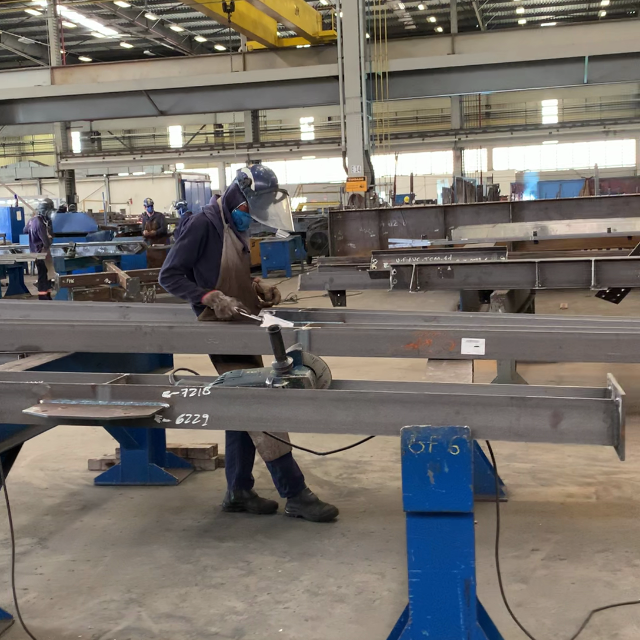face-shield: (243, 186, 295, 234)
glove: (196, 289, 244, 319), (256, 281, 282, 308)
helmet: (235, 164, 279, 198)
person: (155, 161, 298, 320)
safety-shoe: (282, 487, 341, 524), (220, 485, 279, 513)
